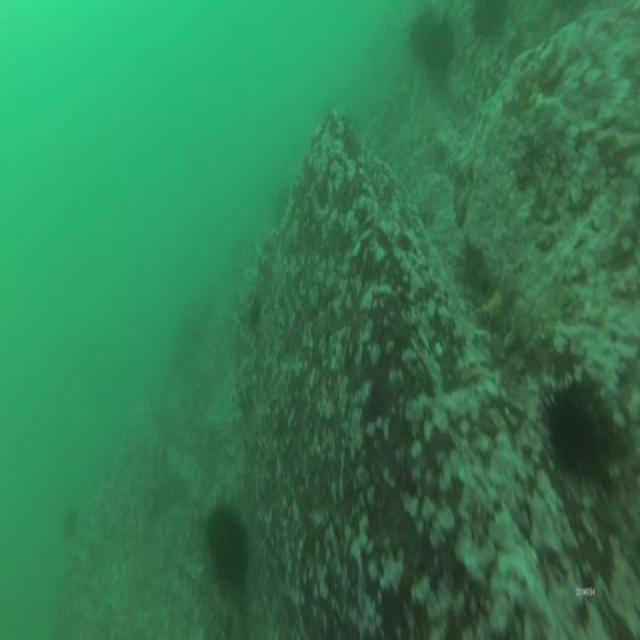echinus: (535, 364, 605, 485), (196, 498, 258, 605), (407, 5, 455, 74), (469, 0, 512, 40), (58, 506, 82, 548)
